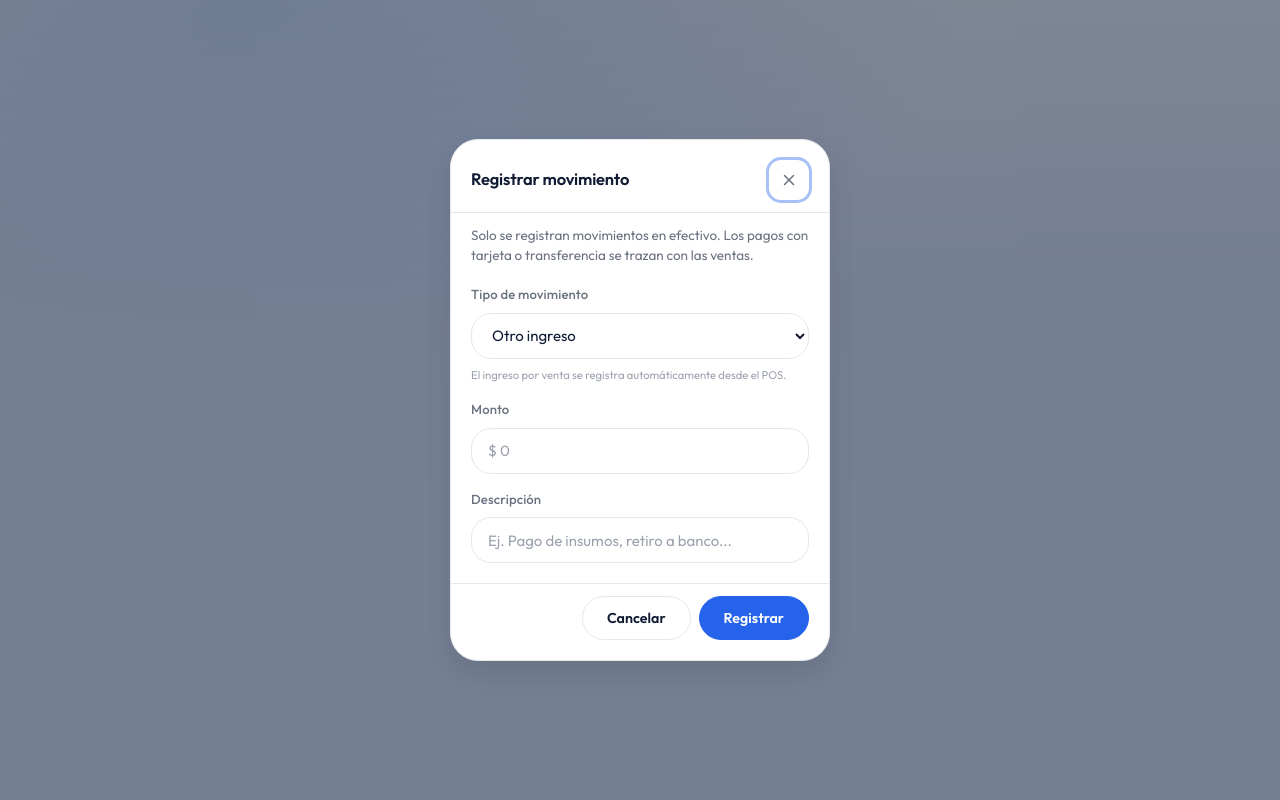
Test: RegistrarMovimientoModal › bloquea el submit y muestra errores si faltan monto o descripción
This screenshot has width=1280, height=800.
Click the button "Registrar" at x=754, y=618, box [699, 596, 809, 640]
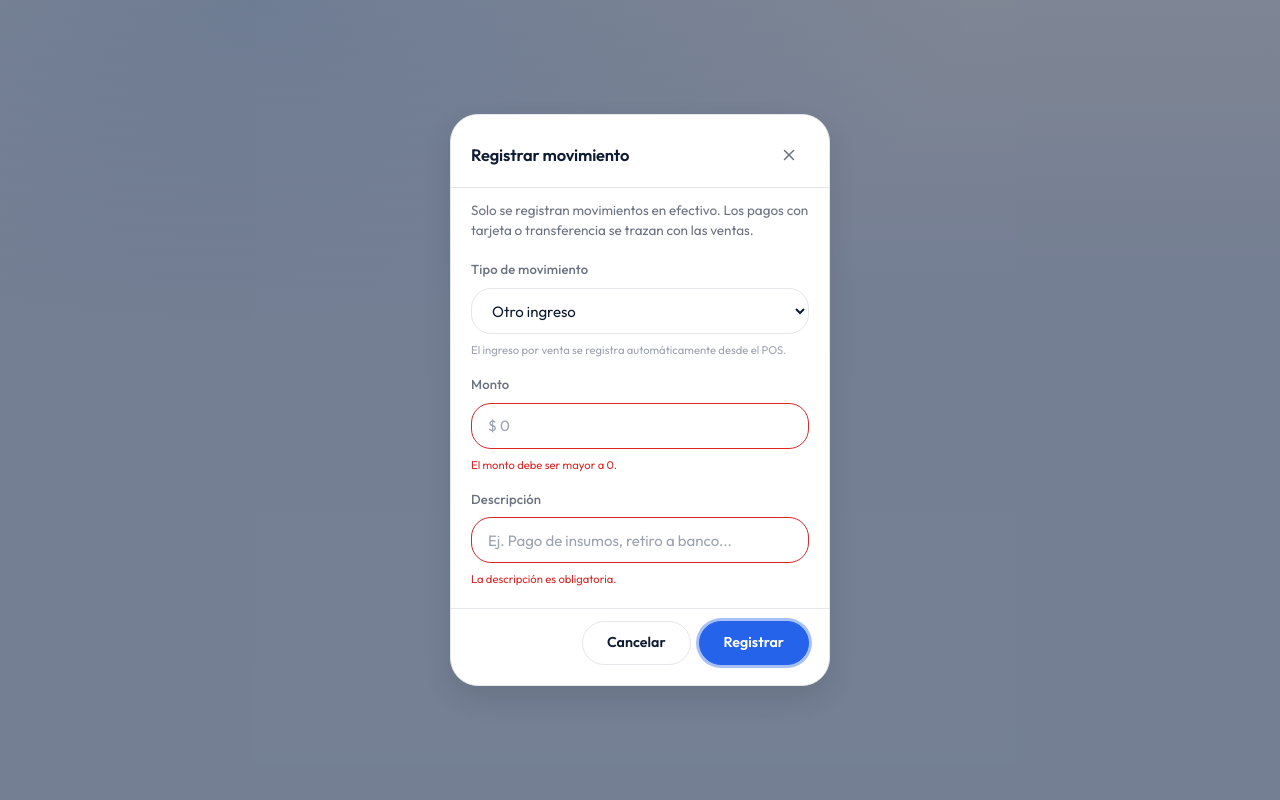
Expected: the text "El monto debe ser mayor a 0." is shown, [471, 458, 617, 472]
Expected: the text "La descripción es obligatoria." is shown, [471, 572, 617, 586]
